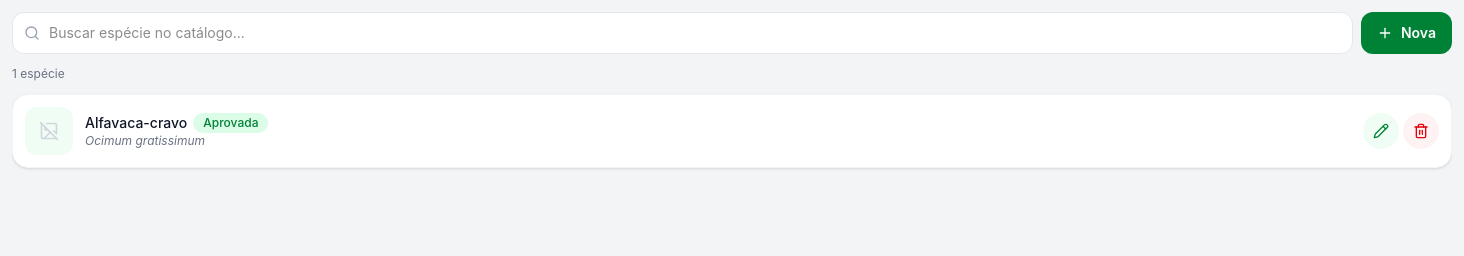
Scenario: SpeciesCatalogManager › exige confirmação antes de excluir e remove da lista ao confirmar
The width and height of the screenshot is (1464, 256).
Click the button named "excluir alfavaca-cravo". click: coordinates (1421, 131)
box: [1403,113,1439,149]
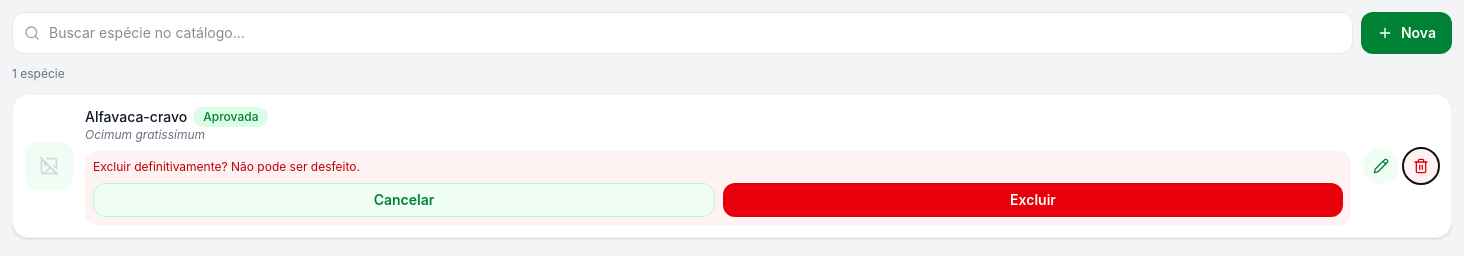
expect the text "Excluir definitivamente? Não pode ser desfeito." is shown: met, box [93,159,360,174]
Click the button "Excluir". click: coordinates (1033, 200)
box: [723,183,1343,217]
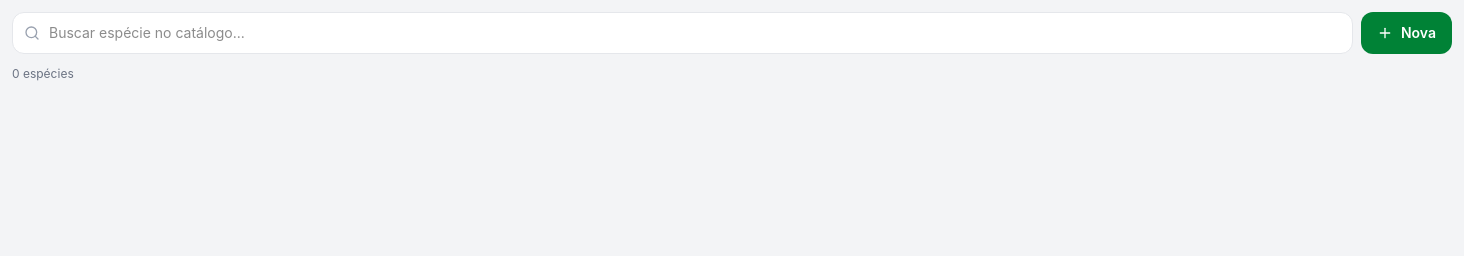
expect the text "Alfavaca-cravo" is gone: met
